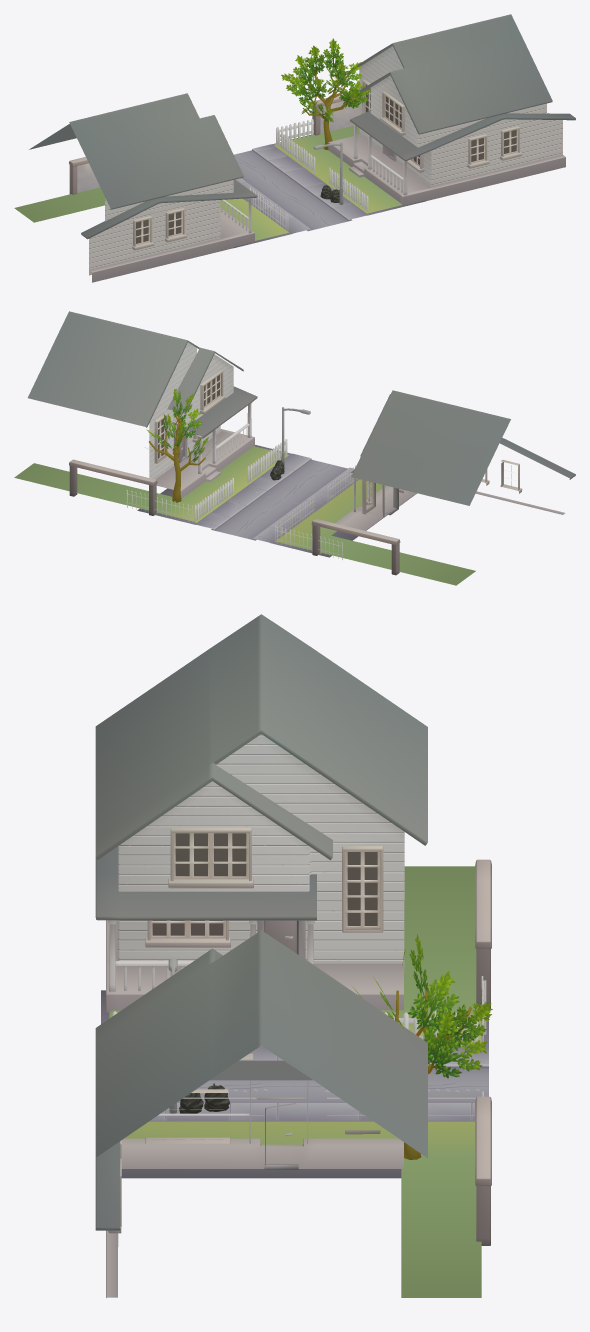
File: SuburbsHouse01.prefab.glb
The picture shows the model from 3 angles, top to bottom: view 1: azimuth 30°, elevation 25°; view 2: azimuth 150°, elevation 25°; view 3: azimuth 270°, elevation 25°; orthographic projection. The views are drawn at different scales.
Visible parts, largest first — view 1: House (1), House, Tree01, SuburbsHouse01, Road02, PlasteredWall01 (4), PlasteredWall01 (1), WoodFence02 (3), WoodFence02 (2), WoodFence02 (4), WoodFence02 (1); view 2: House (1), House, Road02, SuburbsHouse01, Tree01, PlasteredWall01 (1), PlasteredWall01 (4), WoodFence02 (3), WoodFence02 (2), WoodFence02, WoodFence02 (5), WoodFence02 (4); view 3: House, House (1), Road02, SuburbsHouse01, Tree01, PlasteredWall01 (4), PlasteredWall01 (1).
Part boxes in pixels (box(x1,y1,x2,y2)): House (1): box(274, 14, 575, 213); House: box(14, 93, 288, 282); Tree01: box(281, 38, 370, 149); SuburbsHouse01: box(233, 180, 425, 247); Road02: box(234, 135, 320, 194); PlasteredWall01 (4): box(312, 94, 359, 135); PlasteredWall01 (1): box(69, 157, 99, 194); WoodFence02 (3): box(276, 128, 315, 172); WoodFence02 (2): box(329, 167, 368, 211); WoodFence02 (4): box(276, 119, 313, 141); WoodFence02 (1): box(250, 187, 288, 231); House (1): box(14, 311, 288, 522); House: box(275, 390, 575, 585); Road02: box(137, 488, 377, 557); SuburbsHouse01: box(243, 445, 416, 521); Tree01: box(145, 389, 220, 502); PlasteredWall01 (1): box(311, 519, 400, 575); PlasteredWall01 (4): box(69, 459, 157, 515); WoodFence02 (3): box(194, 478, 233, 522); WoodFence02 (2): box(247, 439, 287, 482); WoodFence02: box(275, 496, 314, 541); WoodFence02 (5): box(276, 526, 342, 559); WoodFence02 (4): box(126, 490, 192, 522); House: box(95, 614, 481, 1046); House (1): box(95, 930, 481, 1297); Road02: box(295, 1015, 488, 1178); SuburbsHouse01: box(101, 990, 294, 1178); Tree01: box(351, 934, 492, 1159); PlasteredWall01 (4): box(475, 1096, 491, 1245); PlasteredWall01 (1): box(475, 859, 491, 1008).
Bounding box in the file's own units: 52.37 × 13.22 × 18.49.
Materials: 5 (4 with a texture image).
